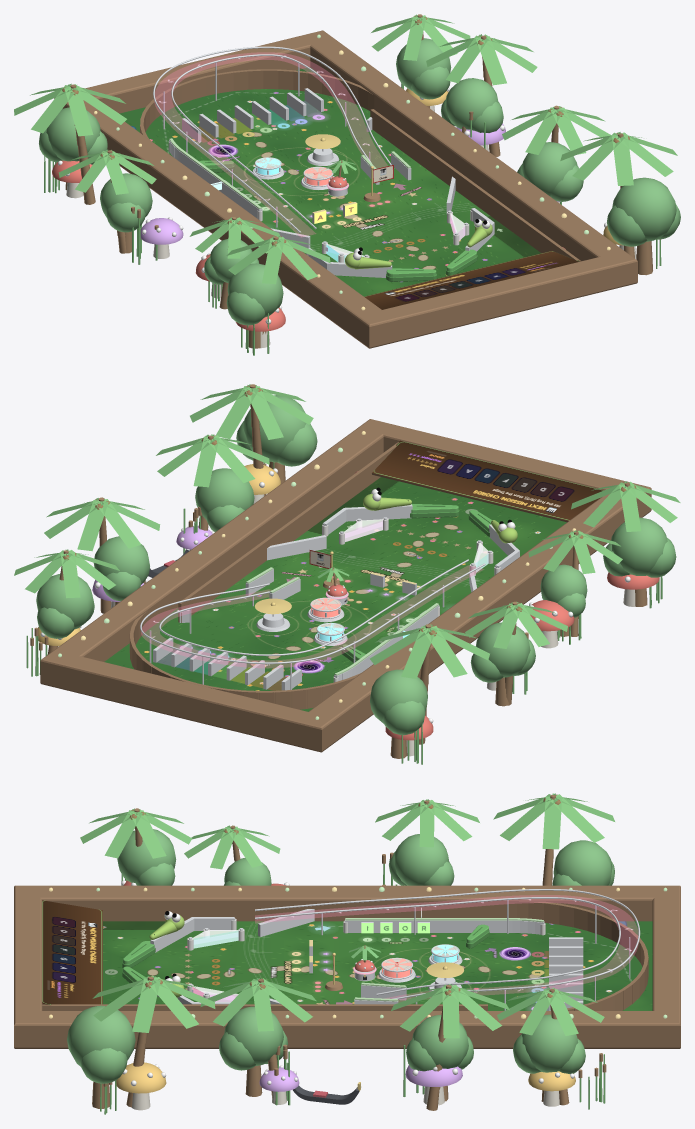
The model's file is table_en.glb.
3 views of the same model, one above another, from view 1: azimuth 30°, elevation 25°; view 2: azimuth 150°, elevation 25°; view 3: azimuth 270°, elevation 25° (orthographic). The views are drawn at different scales.
Visible parts, largest first — view 1: table, pf, scen_home, rampStrip, scen_shroom, apron, scen_carib, scen_lake, object 202, object 194, object 216, object 201 (+12 smaller); view 2: table, pf, scen_home, apron, scen_shroom, rampStrip, scen_carib, scen_lake, object 200, object 199, object 198, object 213 (+10 smaller); view 3: table, pf, scen_home, apron, scen_shroom, rampStrip, scen_lake, scen_carib, object 204, object 196, object 218, object 208 (+19 smaller).
Part boxes in pixels (<box>): table: <box>54,30,637,348</box>; pf: <box>119,67,540,296</box>; scen_home: <box>39,38,680,348</box>; rampStrip: <box>154,52,387,237</box>; scen_shroom: <box>52,88,636,348</box>; apron: <box>364,251,580,309</box>; scen_carib: <box>62,14,634,334</box>; scen_lake: <box>44,83,661,355</box>; object 202: <box>612,134,633,185</box>; object 194: <box>64,86,93,136</box>; object 216: <box>475,36,506,85</box>; object 201: <box>572,132,624,180</box>; table: <box>40,419,651,752</box>; pf: <box>104,477,566,711</box>; scen_home: <box>36,395,676,758</box>; apron: <box>372,440,603,522</box>; scen_shroom: <box>35,464,659,756</box>; rampStrip: <box>141,565,483,667</box>; scen_carib: <box>47,384,636,744</box>; scen_lake: <box>26,462,662,764</box>; object 200: <box>244,386,283,439</box>; object 199: <box>215,386,258,439</box>; object 198: <box>401,626,436,678</box>; object 213: <box>77,500,108,551</box>; table: <box>14,885,680,1048</box>; pf: <box>103,921,652,1010</box>; scen_home: <box>67,829,614,1108</box>; apron: <box>42,900,102,1005</box>; scen_shroom: <box>116,880,575,1110</box>; rampStrip: <box>255,895,638,1002</box>; scen_lake: <box>100,852,606,1114</box>; scen_carib: <box>126,794,569,1110</box>; object 204: <box>132,978,160,1032</box>; object 196: <box>542,796,562,849</box>; object 218: <box>442,987,459,1038</box>; object 208: <box>251,980,273,1031</box>.
Size of what is drawn, in the model's own units: 21.66 by 5.27 by 24.86.
Materials: 286 (79 with a texture image).
